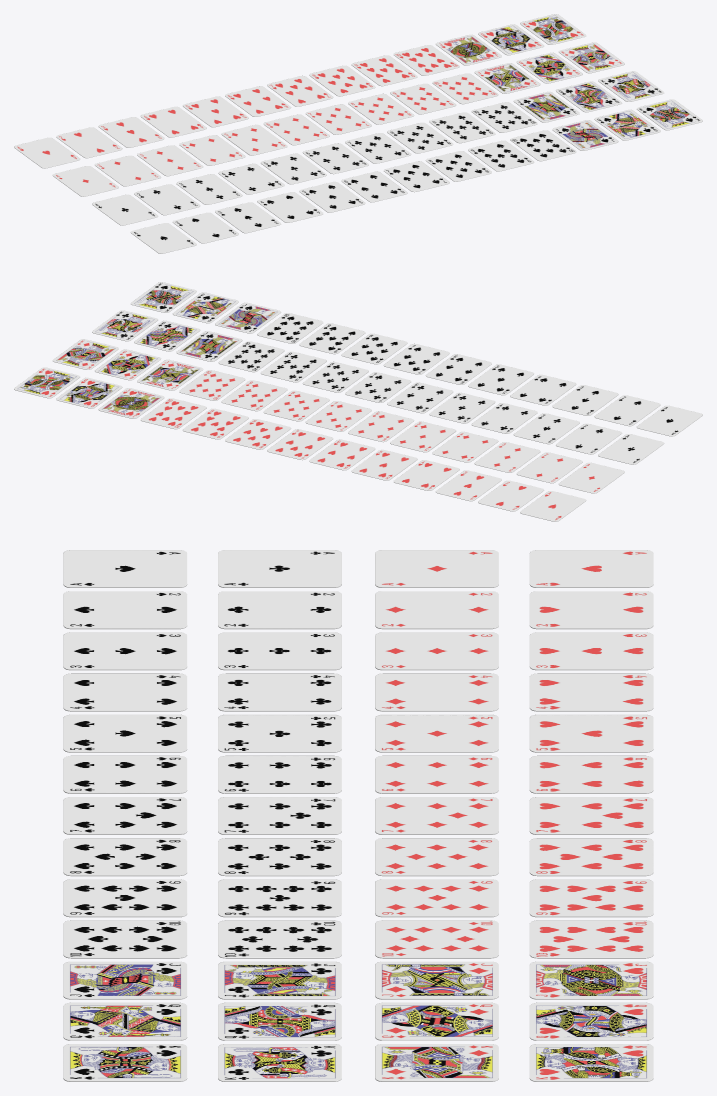
3 renders of one model, top to bottom at view 1: azimuth 30°, elevation 25°; view 2: azimuth 150°, elevation 25°; view 3: azimuth 270°, elevation 25°, orthographic. The views are drawn at different scales.
Parts seen in each view (by area): view 1: samor_1959_22, samor_1959_36, samor_1959_06, samor_1959_52, samor_1959_04, samor_1959_05, samor_1959_09, samor_1959_12, samor_1959_13, samor_1959_25, samor_1959_26, samor_1959_32 (+40 smaller); view 2: samor_1959_24, samor_1959_34, samor_1959_16, samor_1959_42, samor_1959_01, samor_1959_09, samor_1959_10, samor_1959_13, samor_1959_20, samor_1959_21, samor_1959_37, samor_1959_38 (+40 smaller); view 3: samor_1959_08, samor_1959_14, samor_1959_44, samor_1959_50, samor_1959_07, samor_1959_09, samor_1959_13, samor_1959_15, samor_1959_43, samor_1959_45, samor_1959_49, samor_1959_51 (+40 smaller).
Part boxes in pixels (x1=…): samor_1959_22: x1=263, y1=114, x2=329, y2=145; samor_1959_36: x1=387, y1=122, x2=453, y2=153; samor_1959_06: x1=56, y1=127, x2=122, y2=158; samor_1959_52: x1=594, y1=109, x2=660, y2=140; samor_1959_04: x1=636, y1=99, x2=702, y2=130; samor_1959_05: x1=14, y1=137, x2=80, y2=168; samor_1959_09: x1=182, y1=96, x2=248, y2=127; samor_1959_12: x1=309, y1=65, x2=375, y2=96; samor_1959_13: x1=351, y1=55, x2=417, y2=86; samor_1959_25: x1=390, y1=83, x2=456, y2=114; samor_1959_26: x1=432, y1=73, x2=498, y2=104; samor_1959_32: x1=218, y1=163, x2=284, y2=194; samor_1959_24: x1=263, y1=390, x2=329, y2=421; samor_1959_34: x1=387, y1=382, x2=453, y2=413; samor_1959_16: x1=56, y1=377, x2=122, y2=408; samor_1959_42: x1=594, y1=395, x2=660, y2=426; samor_1959_01: x1=14, y1=367, x2=80, y2=398; samor_1959_09: x1=351, y1=449, x2=417, y2=480; samor_1959_10: x1=309, y1=439, x2=375, y2=470; samor_1959_13: x1=182, y1=408, x2=248, y2=439; samor_1959_20: x1=432, y1=431, x2=498, y2=462; samor_1959_21: x1=390, y1=421, x2=456, y2=452; samor_1959_37: x1=260, y1=351, x2=326, y2=382; samor_1959_38: x1=218, y1=341, x2=284, y2=372; samor_1959_08: x1=529, y1=673, x2=653, y2=711; samor_1959_14: x1=529, y1=920, x2=653, y2=958; samor_1959_44: x1=63, y1=673, x2=187, y2=711; samor_1959_50: x1=63, y1=920, x2=187, y2=958; samor_1959_07: x1=529, y1=632, x2=653, y2=670; samor_1959_09: x1=529, y1=714, x2=653, y2=752; samor_1959_13: x1=529, y1=879, x2=653, y2=917; samor_1959_15: x1=529, y1=961, x2=653, y2=999; samor_1959_43: x1=63, y1=632, x2=187, y2=670; samor_1959_45: x1=63, y1=714, x2=187, y2=752; samor_1959_49: x1=63, y1=879, x2=187, y2=917; samor_1959_51: x1=63, y1=961, x2=187, y2=999.
Size of the model in its own units: 1000 by 0.5546 by 469.
4 materials, 4 textured.
